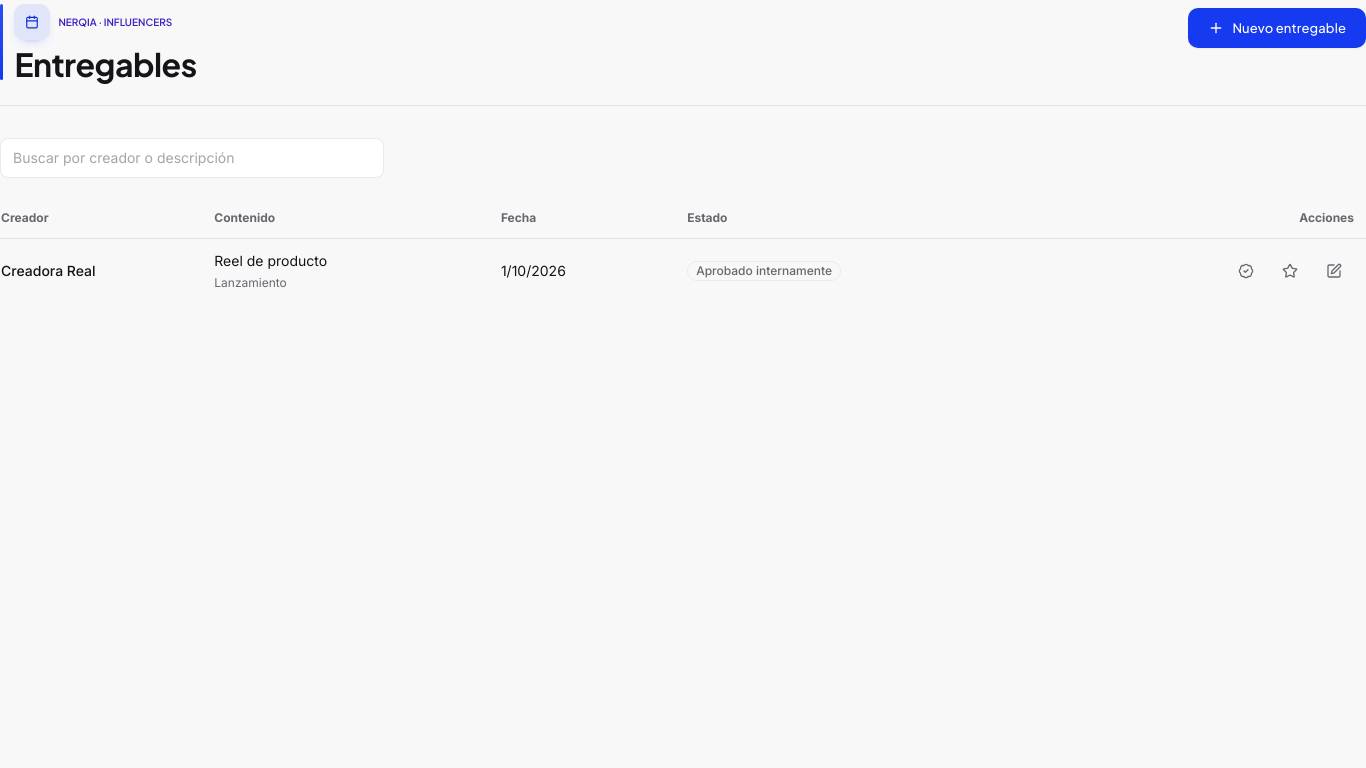
reviews de creadores — reputación real › expone el error sin mensaje técnico
The width and height of the screenshot is (1366, 768).
Click the button named "Calificar trabajo de Creadora Real" at (1290, 271), box [1270,251,1310,291]
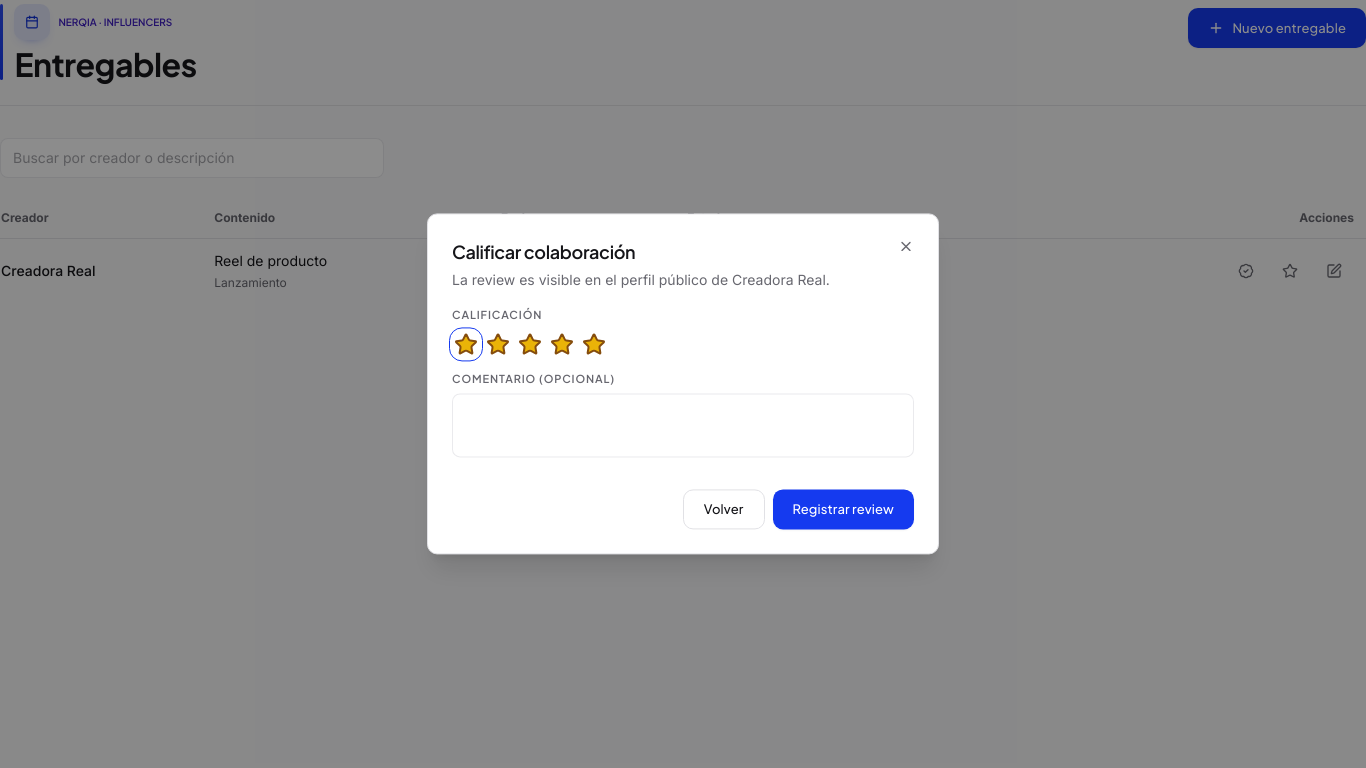
Click the button "Registrar review" at (843, 510), box [772,490,914,530]
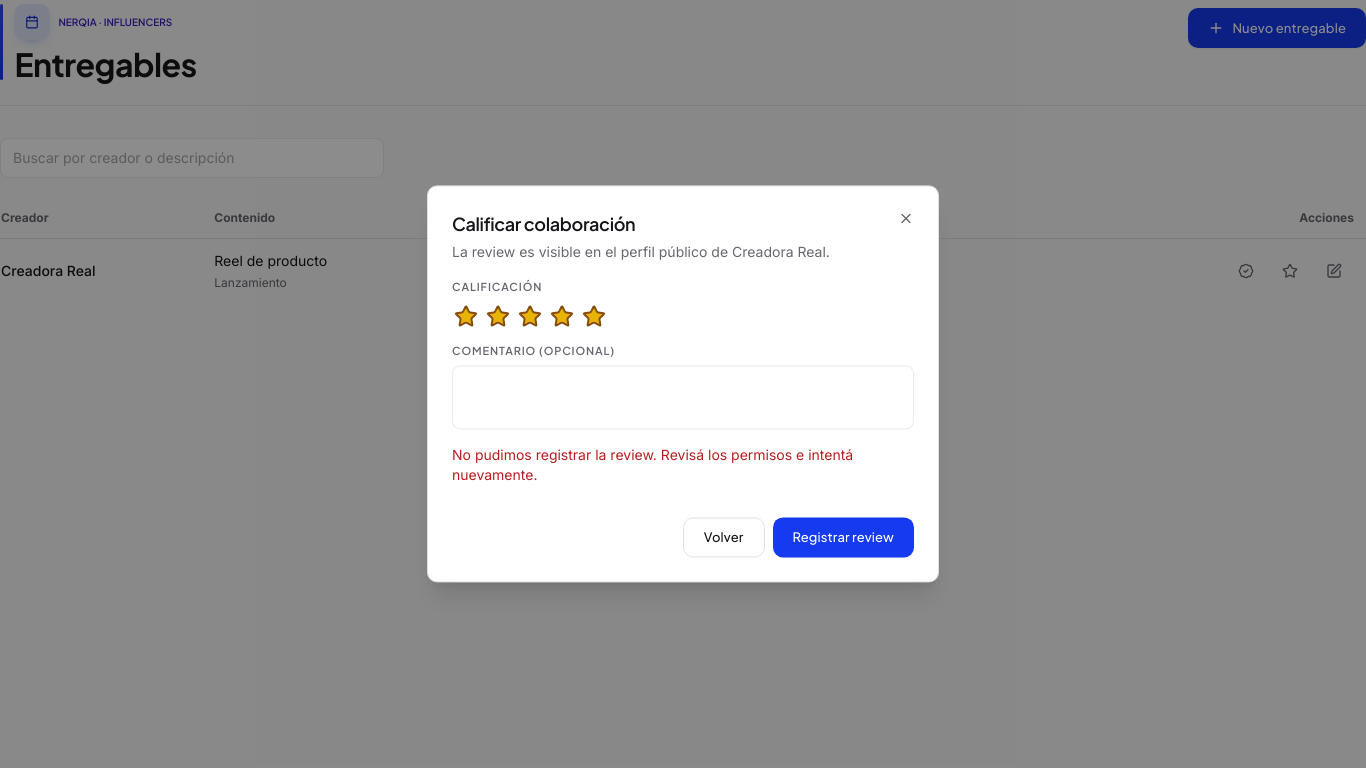
Check: the message shows "No pudimos registrar la review", box [452,447,853,484]
